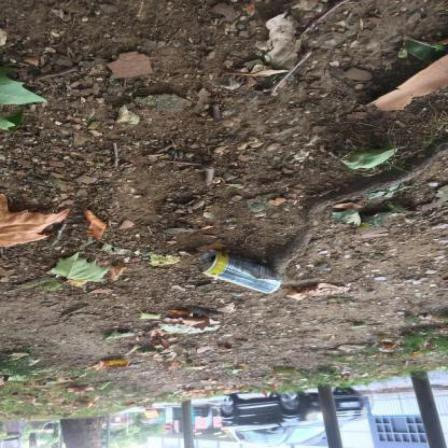Can: (199, 251, 283, 295)
Pop tab: (199, 259, 213, 269)
